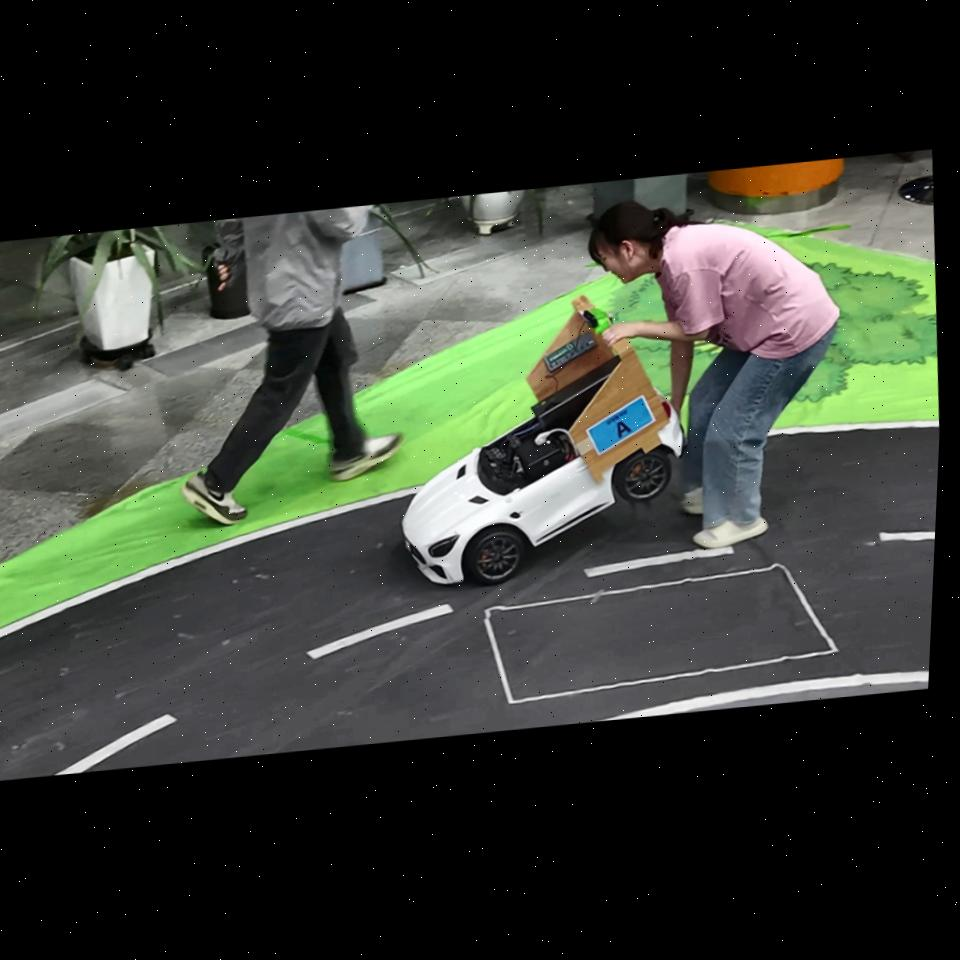broken_line: (307, 604, 453, 659), (55, 714, 177, 775), (584, 546, 734, 578), (880, 531, 935, 541)
